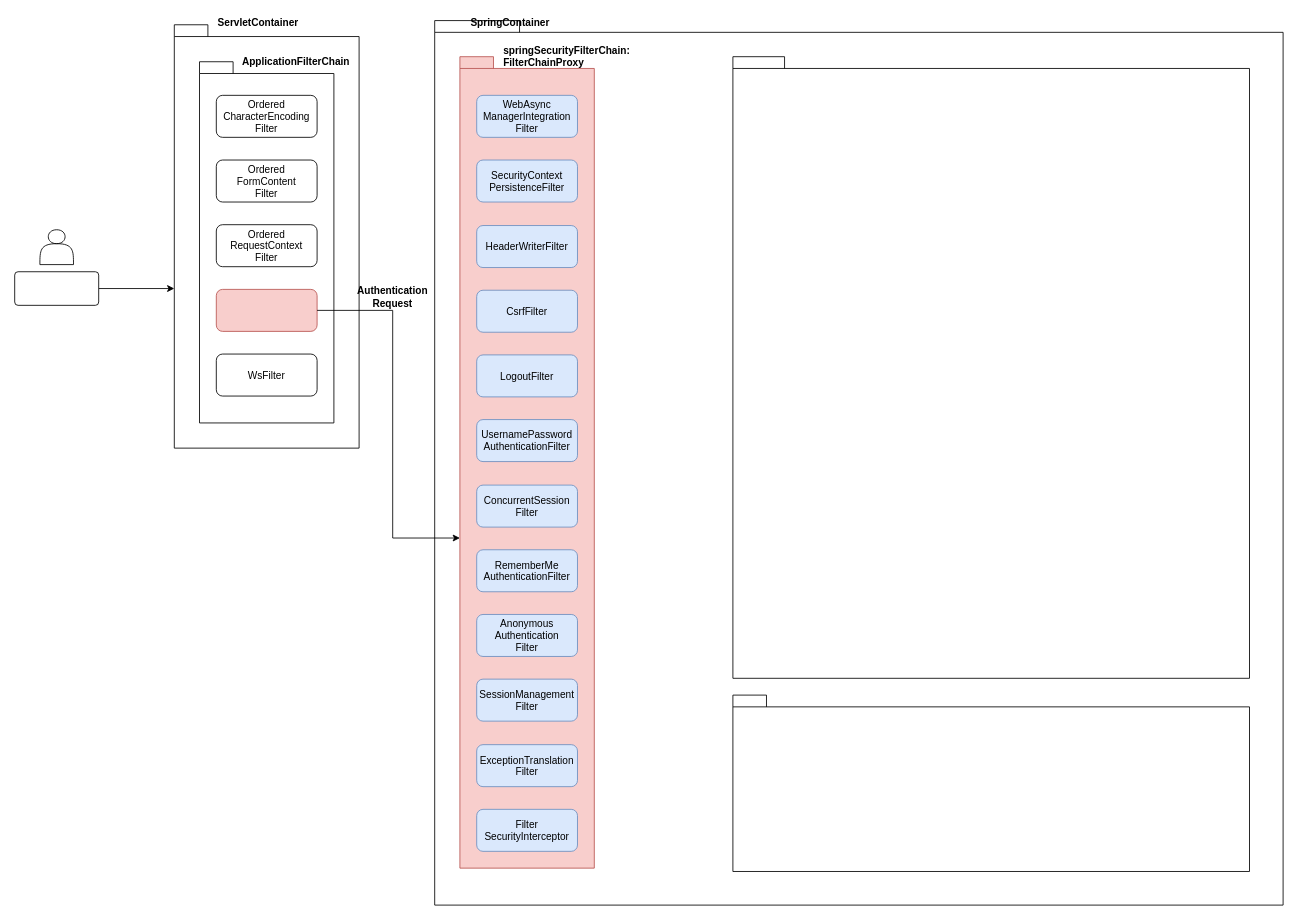
Some shapes in this 1298 by 920 pixel diagram are drawn without their labels. Each missing label, with the centre of its shape:
Authentication: point (991, 367)
Browser: point (56, 288)
Delegating Filter ProxyRegistration Bean: point (266, 310)
